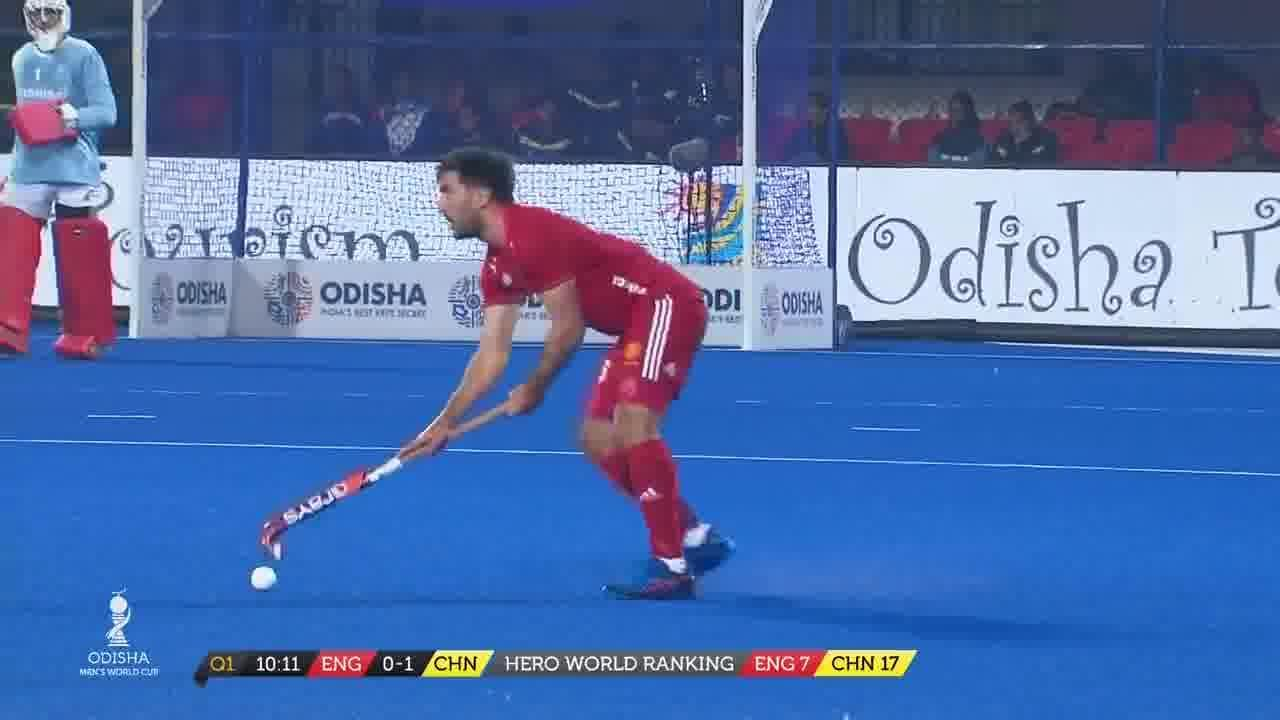ball: (251, 561, 285, 596)
